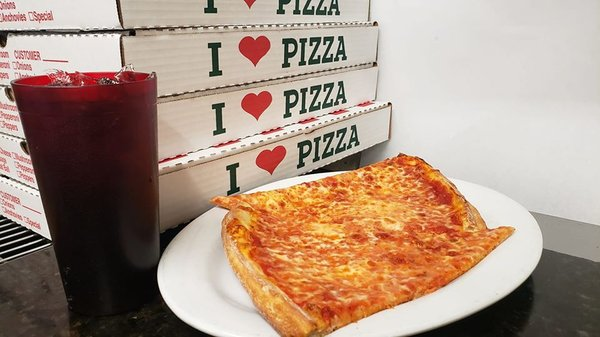pizza: (11, 67, 161, 323)
